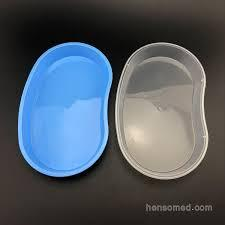Kidney Tray: (112, 38, 214, 182)
